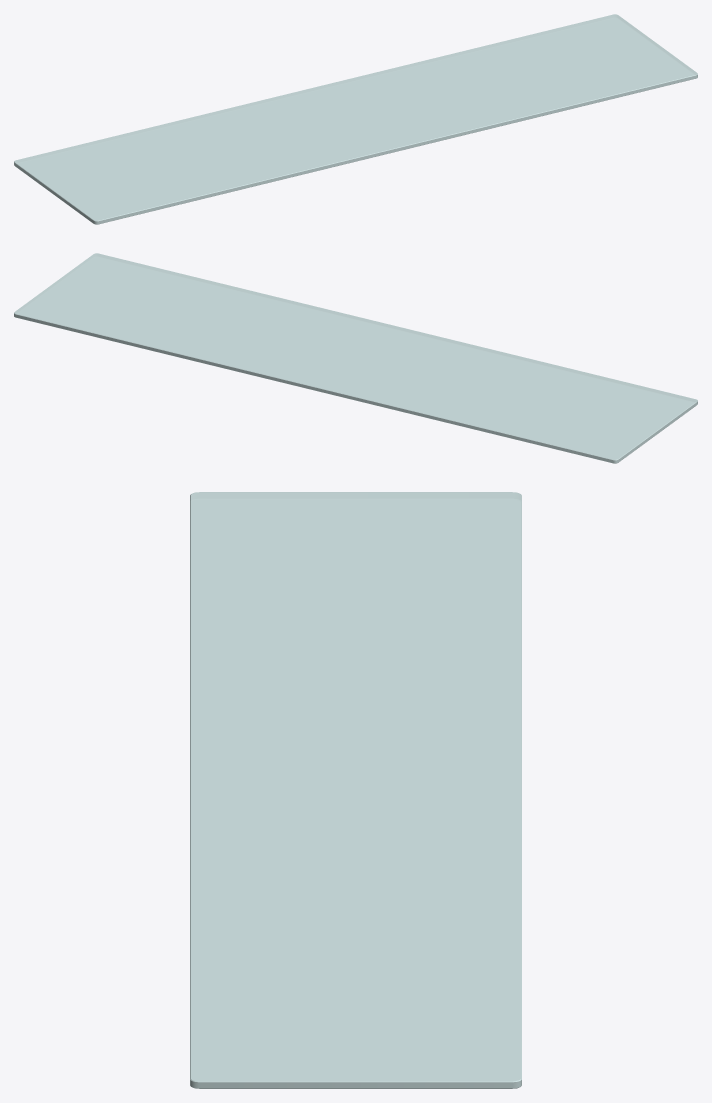
Rendered from glass.gltf.
3 renders of one model, top to bottom at view 1: azimuth 30°, elevation 25°; view 2: azimuth 150°, elevation 25°; view 3: azimuth 270°, elevation 25°, orthographic. The views are drawn at different scales.
Parts seen in each view (by area): view 1: Object_3.001; view 2: Object_3.001; view 3: Object_3.001.
Boxes of the visible parts, x1,y1,x2,y2 form: Object_3.001: (14, 14, 697, 224); Object_3.001: (14, 253, 697, 463); Object_3.001: (190, 492, 521, 1088).
Size of the model in its own units: 0.8281 by 0.005 by 0.197.
1 material, 1 textured.
